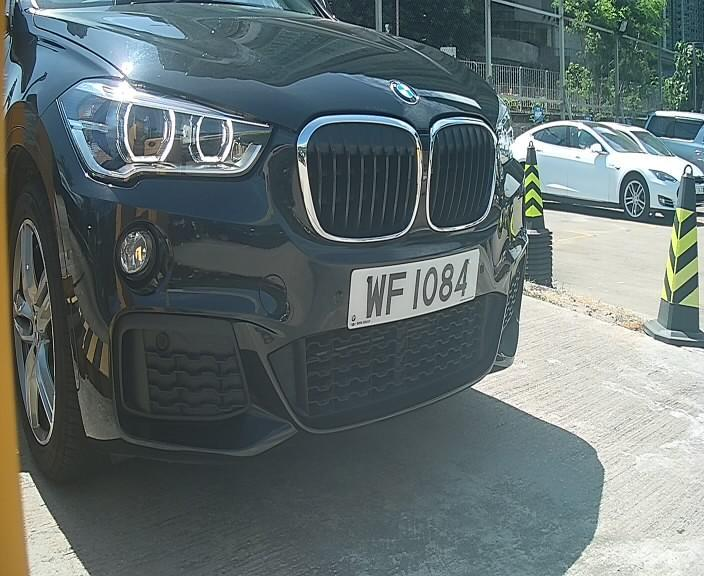privatecar: (13, 8, 532, 497)
